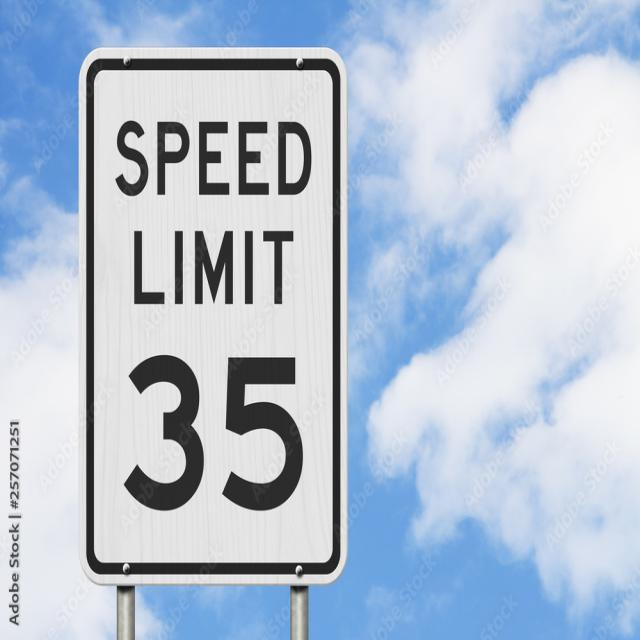speedLimit35: (77, 48, 350, 586)
